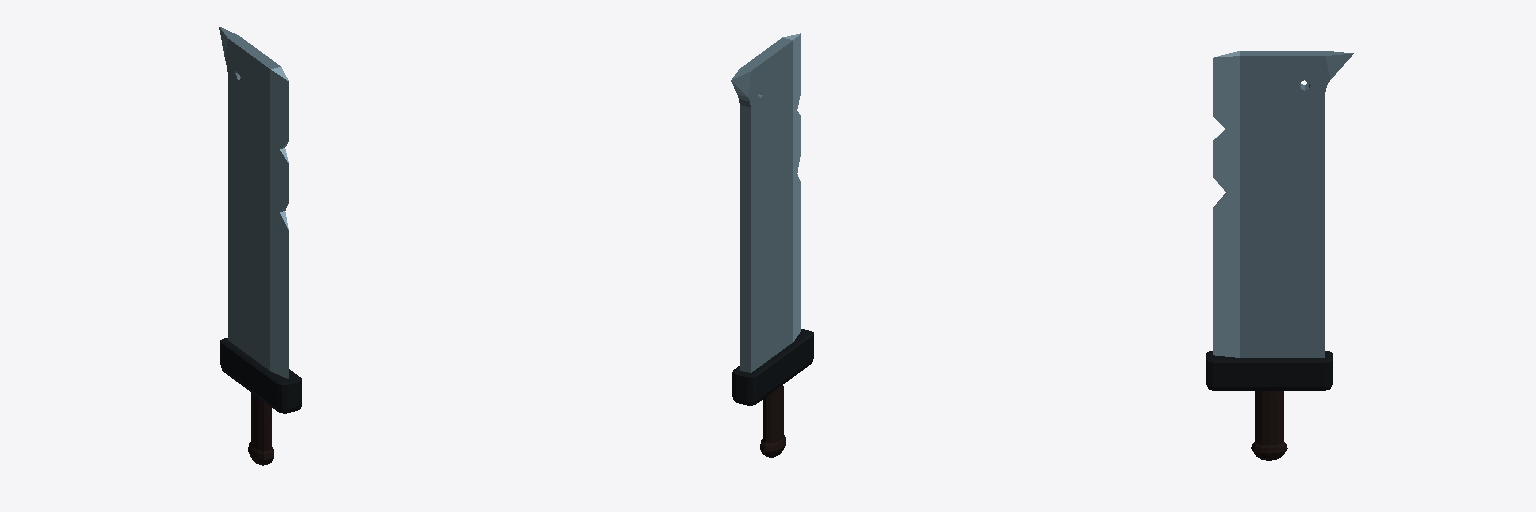
Rendered from warriorSword.obj.
The picture shows the model from 3 angles: view 1: azimuth 30°, elevation 25°; view 2: azimuth 150°, elevation 25°; view 3: azimuth 270°, elevation 25°; orthographic projection.
Parts seen in each view (by area): view 1: warriorSword_Cube.6418; view 2: warriorSword_Cube.6418; view 3: warriorSword_Cube.6418.
Part boxes in pixels (x1,y1,x2,y2): warriorSword_Cube.6418: (219,27,301,465); warriorSword_Cube.6418: (731,33,813,457); warriorSword_Cube.6418: (1206,51,1353,460).
Bounding box in the file's own units: 0.1026 × 1.63 × 0.5427.